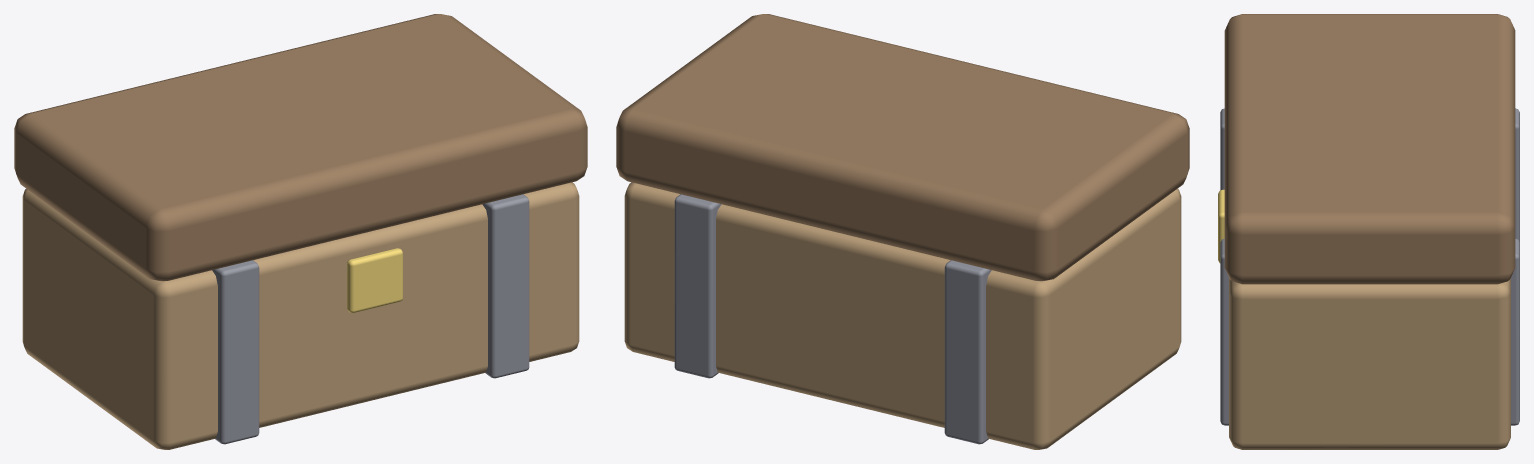
Rendered from chest_wood.glb.
3 views of the same model, side by side, from view 1: azimuth 30°, elevation 25°; view 2: azimuth 150°, elevation 25°; view 3: azimuth 270°, elevation 25° (orthographic).
Parts seen in each view (by area): view 1: chest_lid, body, band-0.35, band0.35, lock; view 2: chest_lid, body, band-0.35, band0.35; view 3: chest_lid, body, band0.35, band-0.35, lock.
Part boxes in pixels (<box>): chest_lid: <box>14,14,587,281</box>; body: <box>22,182,579,449</box>; band-0.35: <box>212,260,259,444</box>; band0.35: <box>482,194,529,378</box>; lock: <box>347,248,402,312</box>; chest_lid: <box>616,14,1189,281</box>; body: <box>624,182,1181,449</box>; band-0.35: <box>944,260,991,444</box>; band0.35: <box>674,194,721,378</box>; chest_lid: <box>1224,14,1515,284</box>; body: <box>1229,277,1510,449</box>; band0.35: <box>1220,238,1519,425</box>; band-0.35: <box>1220,108,1519,242</box>; lock: <box>1218,189,1224,263</box>.
Size of the model in its own units: 1.14 by 0.6 by 0.685.
